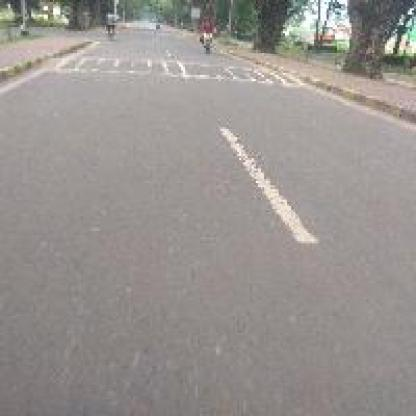Speed Bump: (42, 52, 308, 87)
